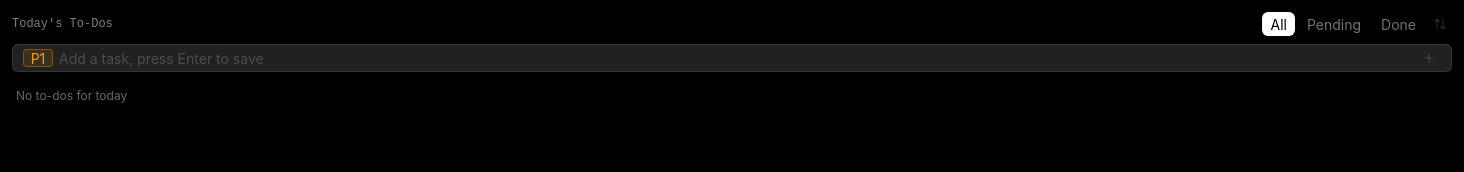
Scenario: HeaderSchedulePanel › 输入框回车创建今天的待办并置顶展示
Expected: the text "No to-dos for today" is shown, [16,88,127,103]
Type "Write report" into the field with placeholder "Add a task, press Enter to save" at (735, 58), box [59,48,1411,68]
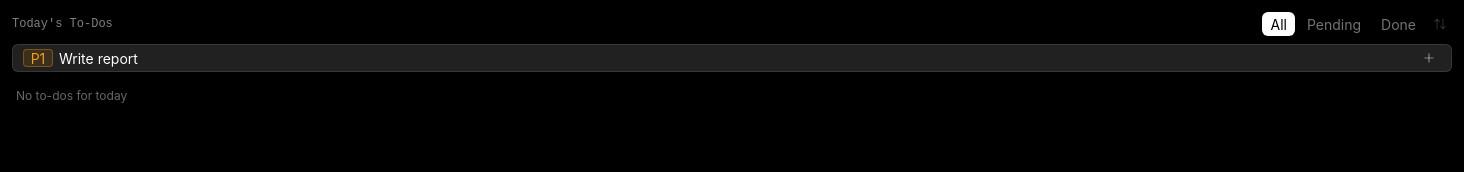
Press Enter in the field with placeholder "Add a task, press Enter to save", box [59,48,1411,68]
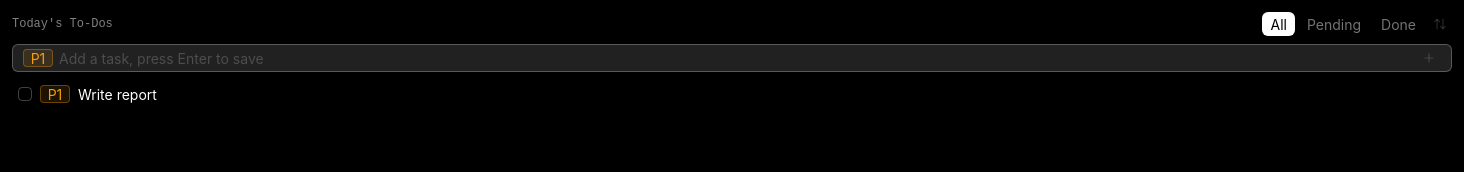
Now the button "Write report" is shown, box [78,84,1386,104]
